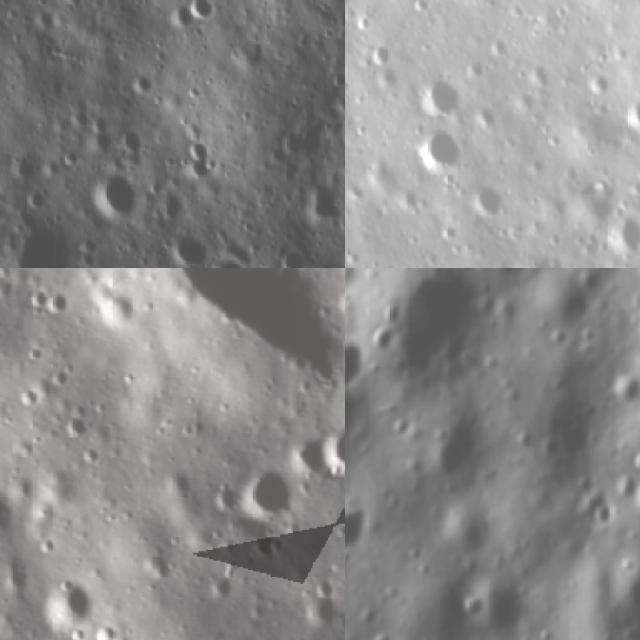crater: (174, 268, 345, 388), (390, 268, 484, 385), (86, 163, 152, 229), (427, 413, 492, 479), (8, 218, 93, 268), (235, 470, 301, 527), (419, 117, 476, 175), (413, 62, 465, 121), (44, 578, 96, 628), (279, 430, 327, 480), (311, 410, 345, 476), (160, 227, 214, 268), (304, 580, 341, 638), (608, 563, 640, 629), (604, 204, 640, 259), (345, 495, 373, 552), (473, 177, 510, 218), (345, 335, 368, 394), (587, 502, 623, 534), (0, 486, 19, 542), (616, 96, 640, 139), (46, 286, 74, 321), (184, 0, 217, 29), (462, 590, 489, 622), (360, 626, 404, 640), (208, 256, 256, 268), (581, 258, 621, 268), (243, 260, 274, 268), (632, 452, 640, 477)
